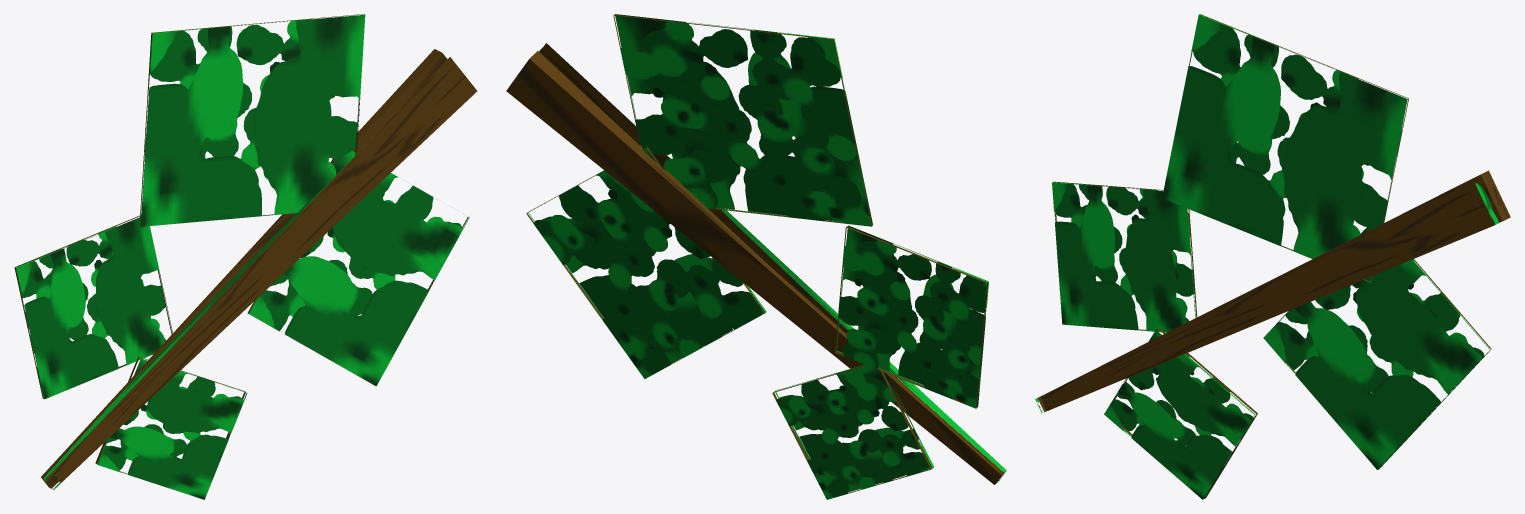
File: ObjectFirTreeNeedles3.obj
3 renders of one model, left to right at view 1: azimuth 30°, elevation 25°; view 2: azimuth 150°, elevation 25°; view 3: azimuth 330°, elevation 25°, orthographic. The views are drawn at different scales.
Visible parts, largest first — view 1: Cube.002, Cube, Cube.004, Cube.003, Cube.001; view 2: Cube.002, Cube, Cube.004, Cube.003, Cube.001; view 3: Cube.002, Cube.004, Cube, Cube.003, Cube.001.
Part boxes in pixels (x1,y1,x2,y2): Cube.002: [139, 14, 365, 226]; Cube: [41, 49, 477, 489]; Cube.004: [247, 151, 469, 386]; Cube.003: [14, 215, 172, 399]; Cube.001: [95, 356, 247, 499]; Cube.002: [613, 14, 872, 226]; Cube: [506, 43, 1006, 484]; Cube.004: [526, 146, 766, 378]; Cube.003: [835, 225, 988, 408]; Cube.001: [772, 364, 933, 499]; Cube.002: [1162, 14, 1408, 282]; Cube.004: [1263, 227, 1491, 469]; Cube: [1035, 170, 1510, 413]; Cube.003: [1052, 181, 1197, 332]; Cube.001: [1104, 328, 1257, 499].
Bounding box in the file's own units: 7.54 × 7.3 × 0.891.
